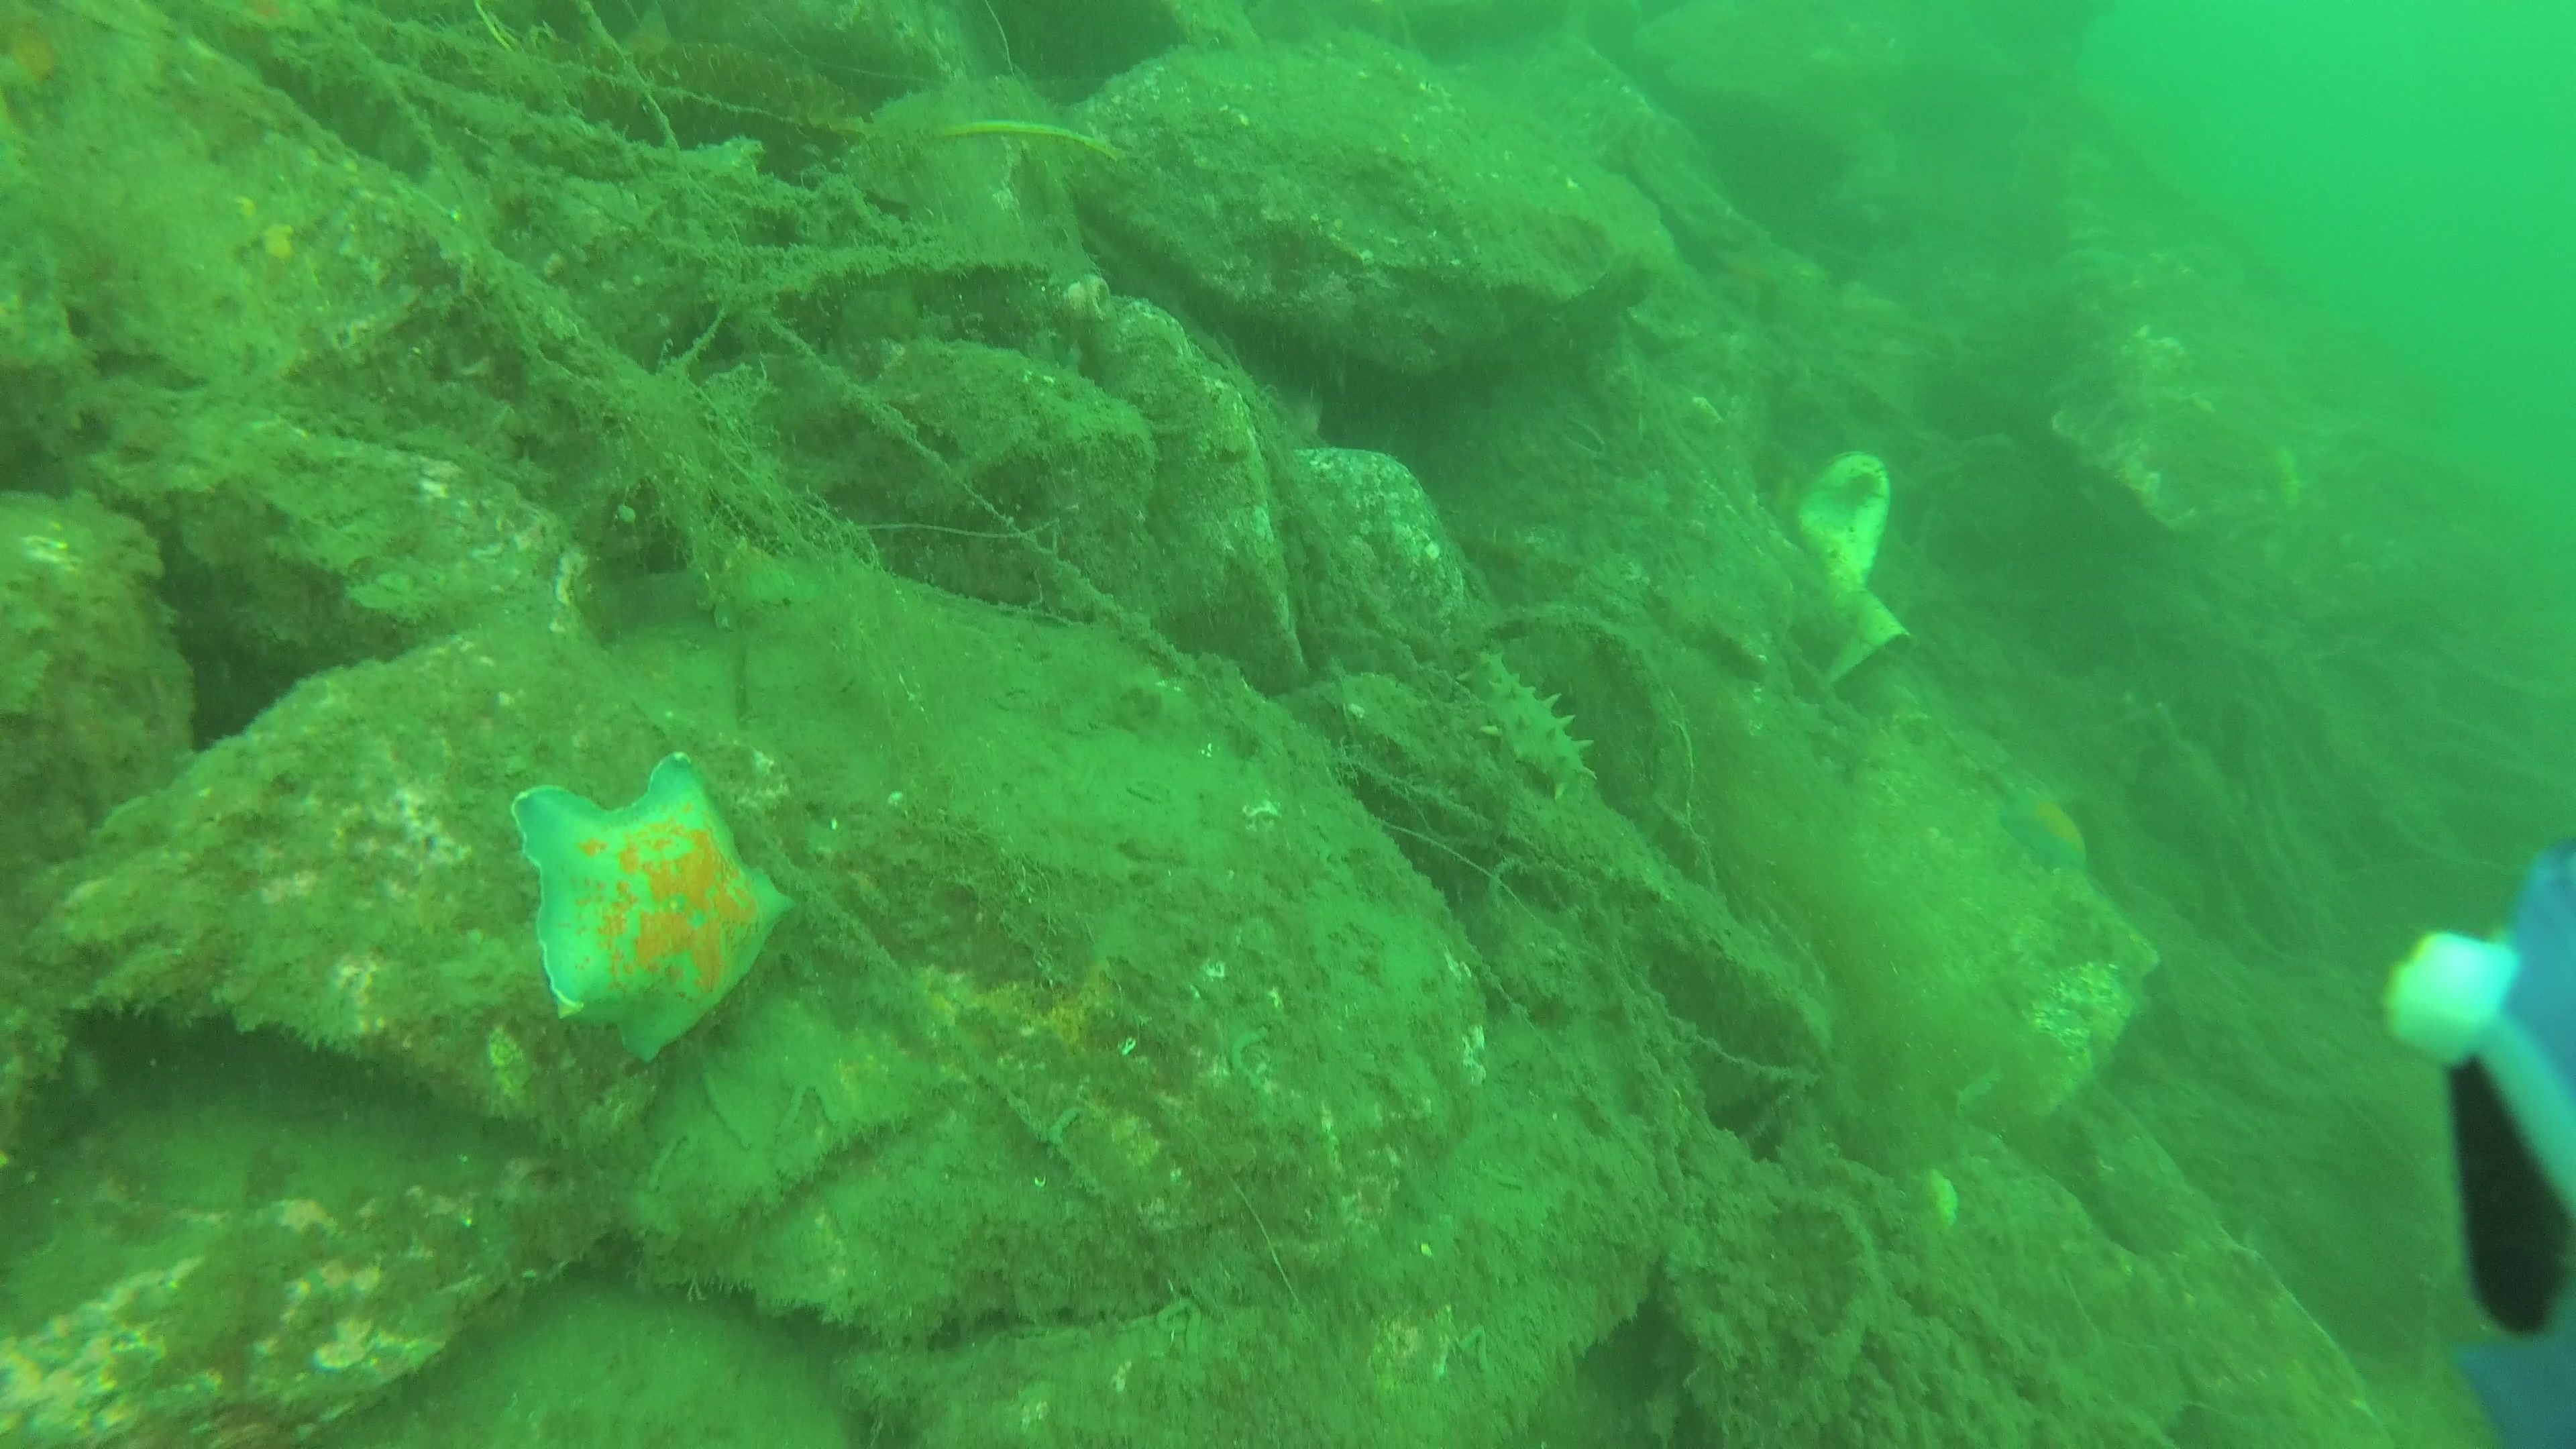holothurian: (1460, 646, 1605, 807)
starfish: (506, 750, 803, 1065), (1997, 764, 2095, 881)
